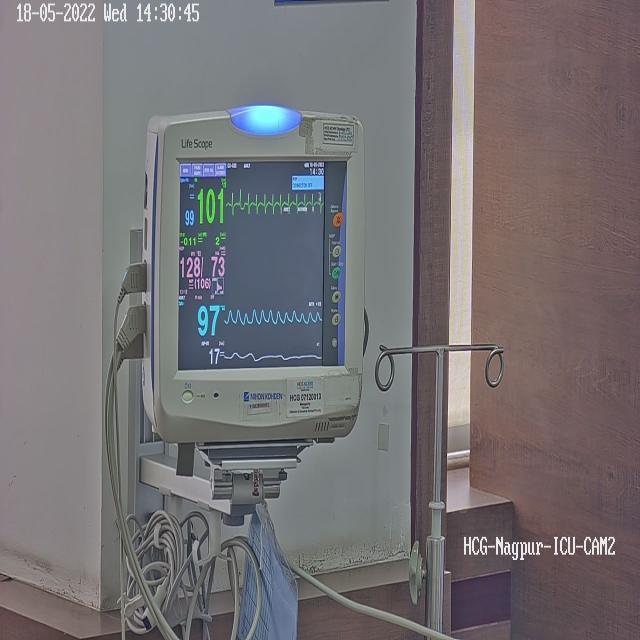Monitor: (141, 104, 367, 450)
